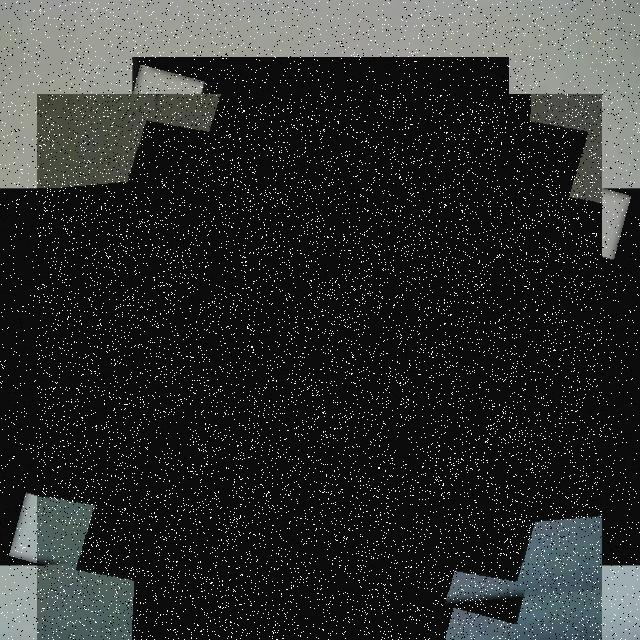dua puluh ribu rupiah: (37, 94, 602, 640)
